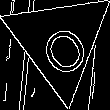O_NW: (29, 9, 90, 76)
